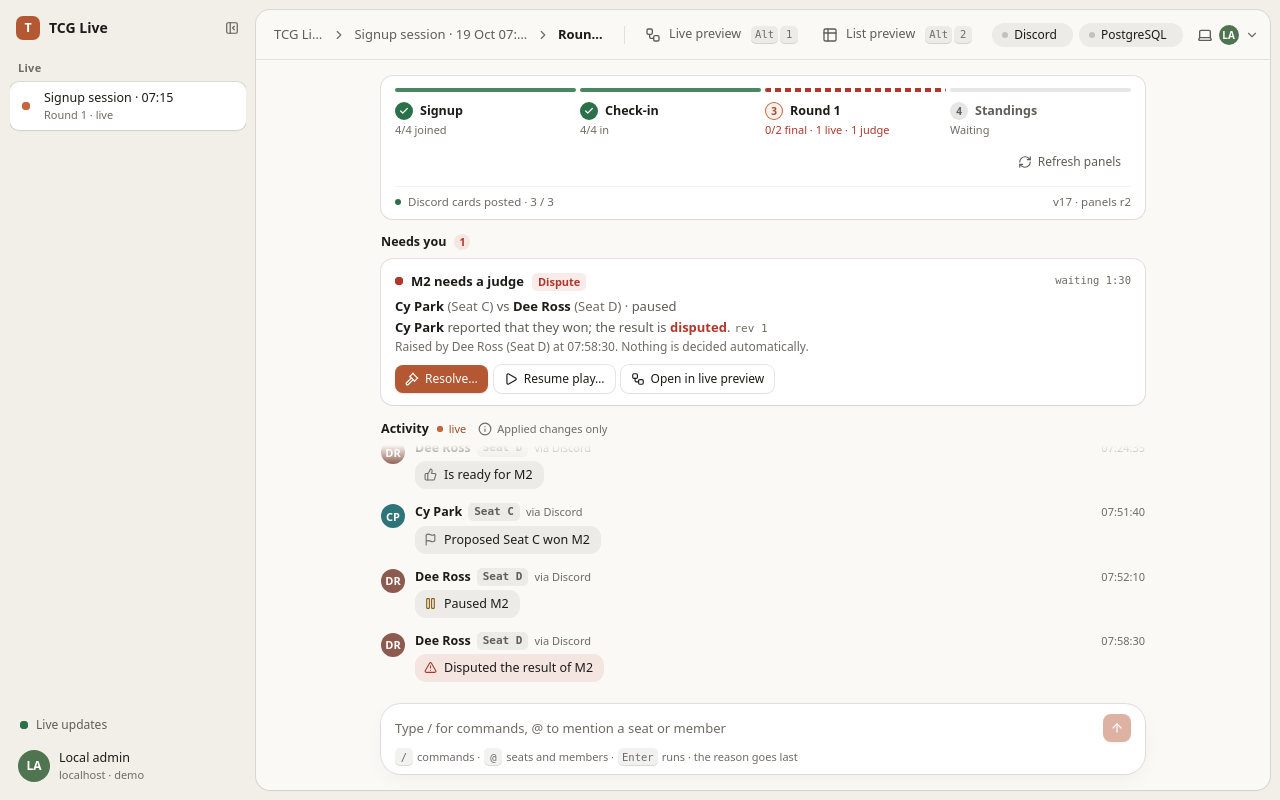
Test: preview dock layout › below 1100 px the previews open as a dismissible, focus-managed sheet
(page scrolled)
Click the button "Live preview Alt 1" at (722, 34), box [635,20,808,50]
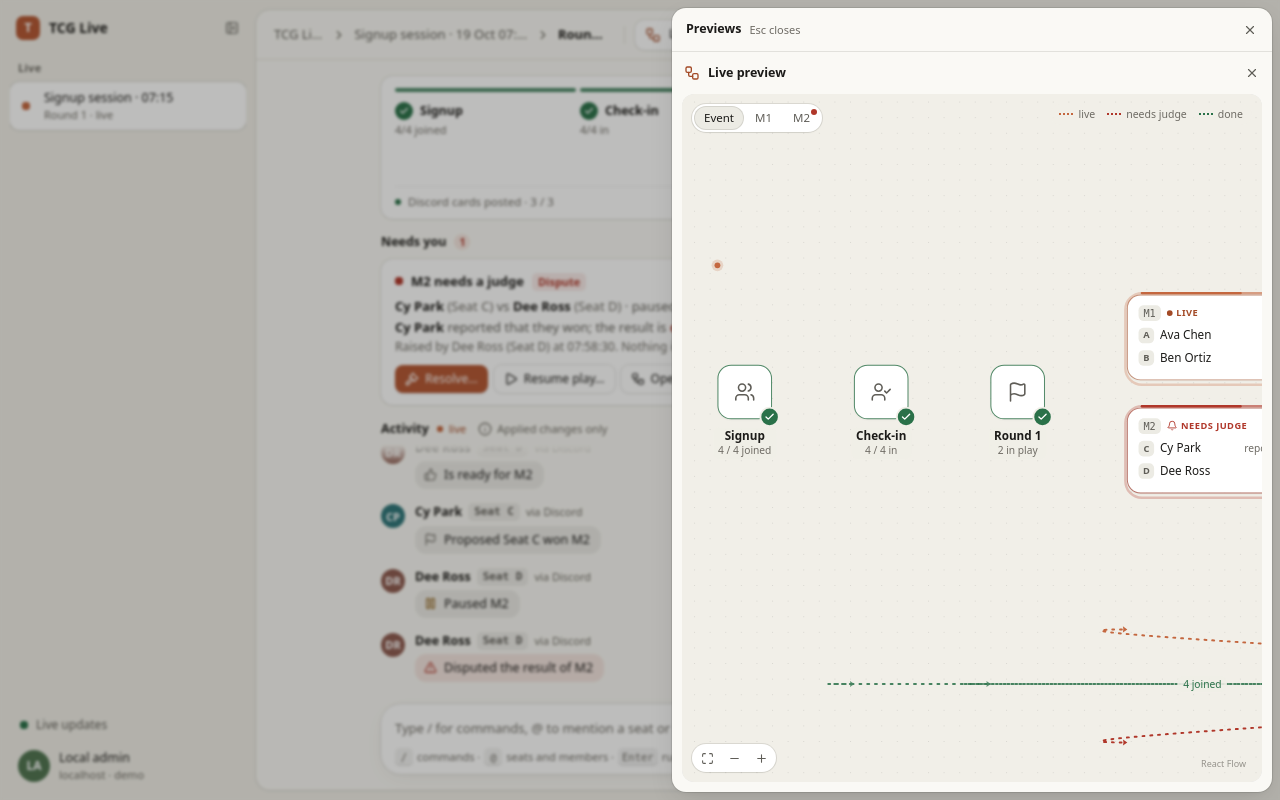
Check: the element with test id "live-preview" is shown, box [682,94,1262,782]
Press Escape
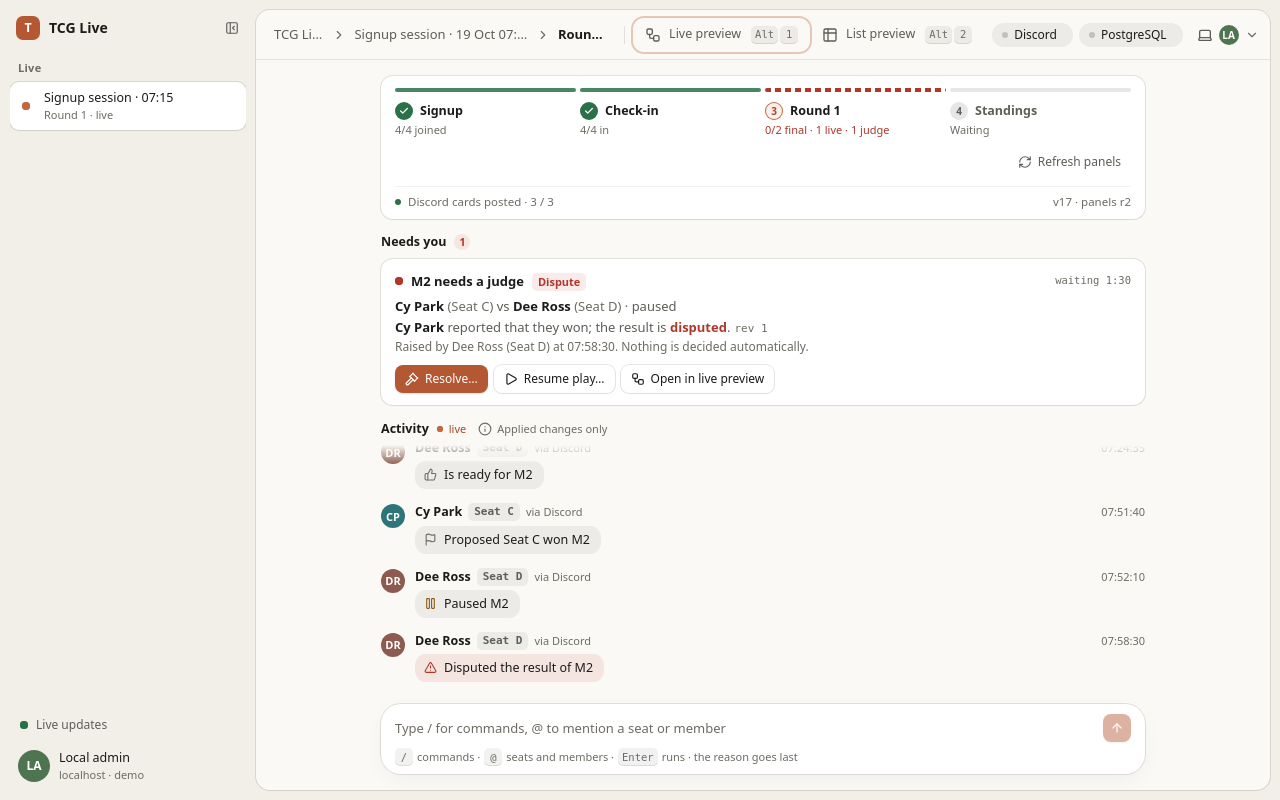
Check: the text "Previews" is gone
